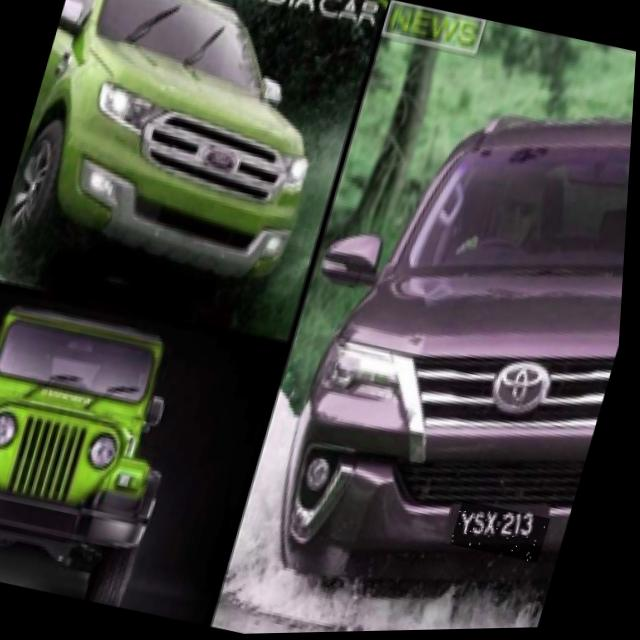license_plate: (456, 501, 558, 567)
